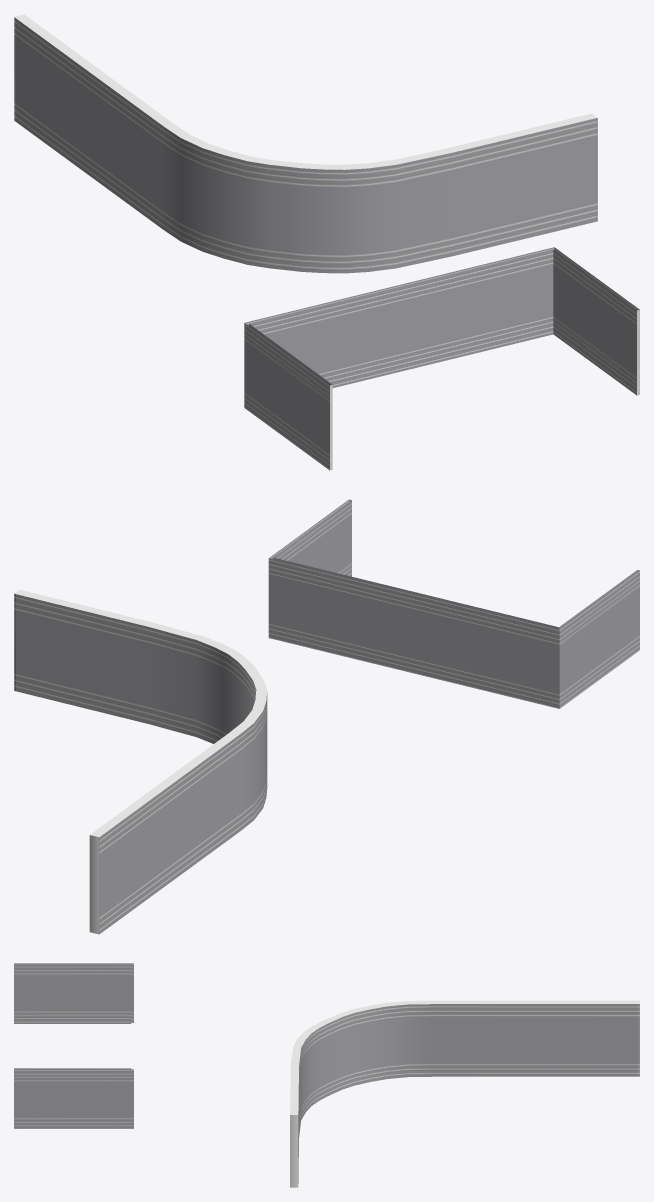
File: mroom_glass.fbx
The picture shows the model from 3 angles, top to bottom: view 1: azimuth 30°, elevation 25°; view 2: azimuth 150°, elevation 25°; view 3: azimuth 270°, elevation 25°; orthographic projection. The views are drawn at different scales.
Parts seen in each view (by area): view 1: glass_middle, glass_m; view 2: glass_middle, glass_m; view 3: glass_middle, glass_m.
Boxes of the visible parts, x1,y1,x2,y2 form: glass_middle: (14, 14, 597, 273); glass_m: (244, 247, 639, 470); glass_middle: (14, 589, 267, 934); glass_m: (268, 499, 639, 708); glass_middle: (290, 1000, 639, 1187); glass_m: (14, 963, 133, 1128).
Bounding box in the file's own units: 418 × 89.17 × 696.
1 material, 1 textured.
